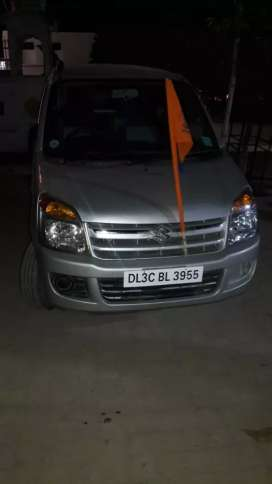license_plate: (125, 268, 206, 286)
